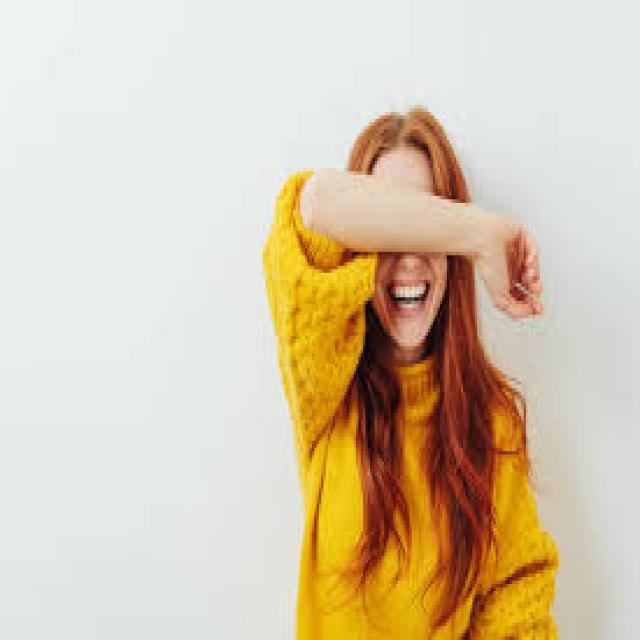7_mano_rostro: (346, 169, 531, 280)
